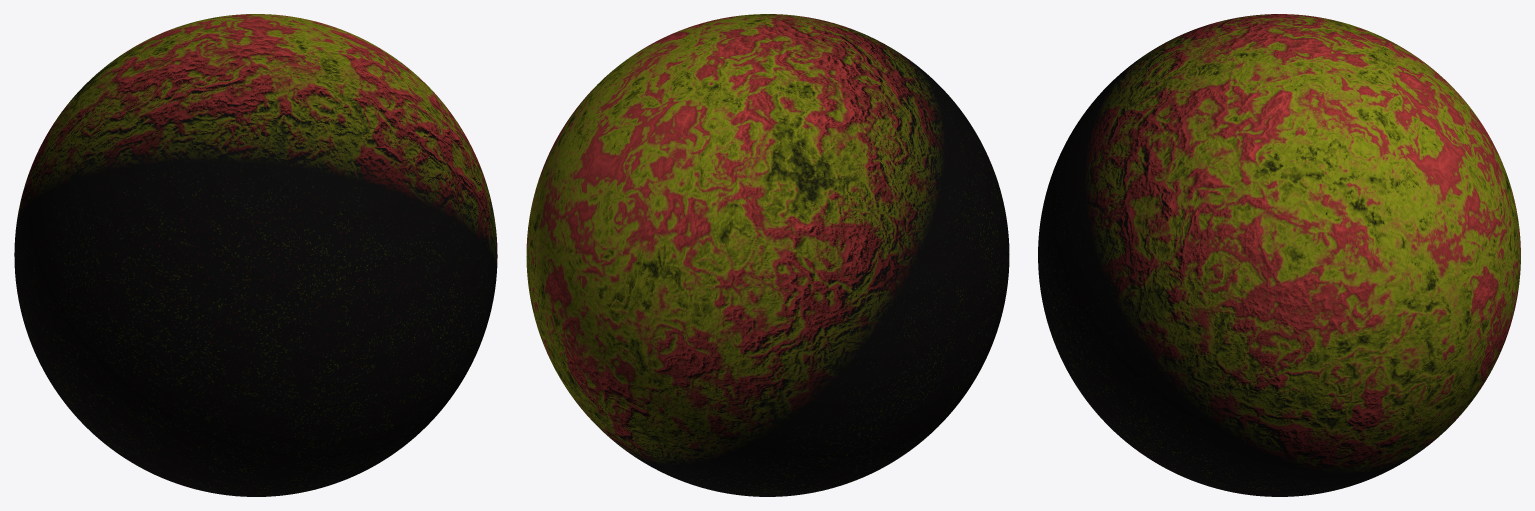
Rendered from planet.glb.
3 views of the same model, side by side, from view 1: azimuth 30°, elevation 25°; view 2: azimuth 150°, elevation 25°; view 3: azimuth 270°, elevation 25° (orthographic).
Parts seen in each view (by area): view 1: Icosphere; view 2: Icosphere; view 3: Icosphere.
Boxes of the visible parts, bbox=[...] form: Icosphere: bbox=[14, 14, 497, 496]; Icosphere: bbox=[526, 14, 1009, 496]; Icosphere: bbox=[1038, 14, 1520, 496].
Bounding box in the file's own units: 2 × 2 × 2.
Materials: 1 (1 with a texture image).
